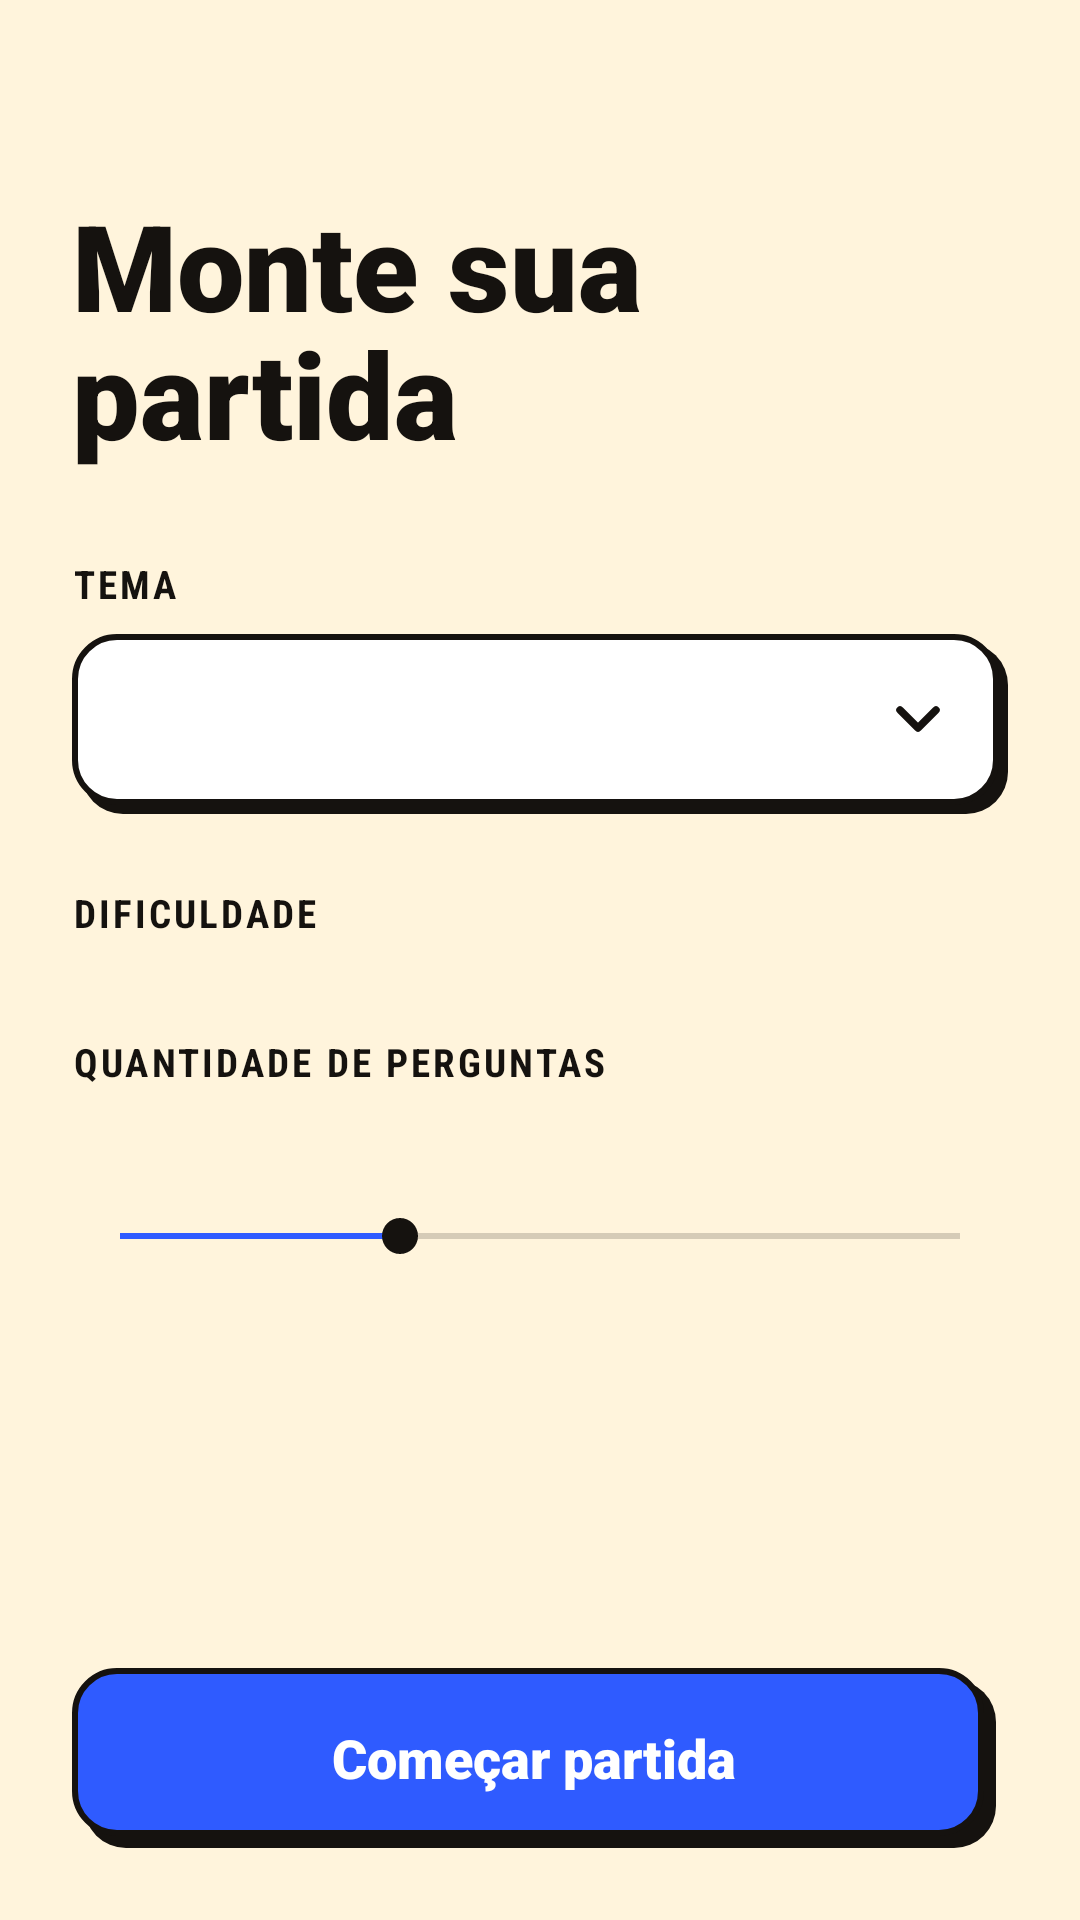

Where to tap for icons on this 1080 x 1920 app screen, as (x,y):
chevron down: (918,719)
